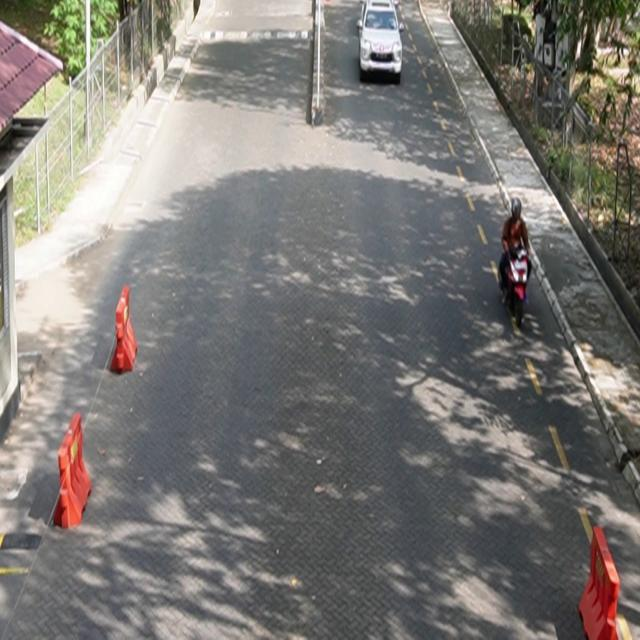car: (357, 1, 405, 85)
